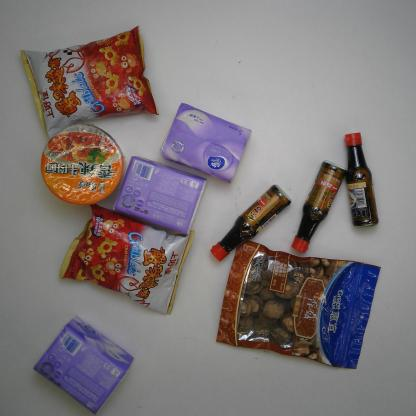Dried Food: (217, 226, 388, 371)
Instant Noodles: (38, 119, 122, 204)
Puffed Food: (20, 22, 160, 136), (55, 202, 196, 315)
Seasoner: (208, 183, 289, 264), (293, 159, 344, 254), (341, 130, 381, 226)
Tissue: (33, 316, 136, 412), (162, 100, 252, 185), (114, 155, 208, 236)
